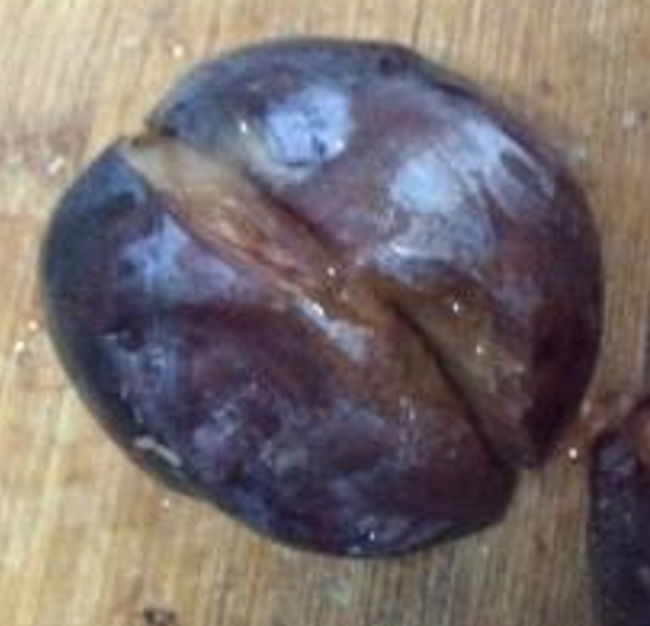plum_C: (36, 40, 605, 563)
